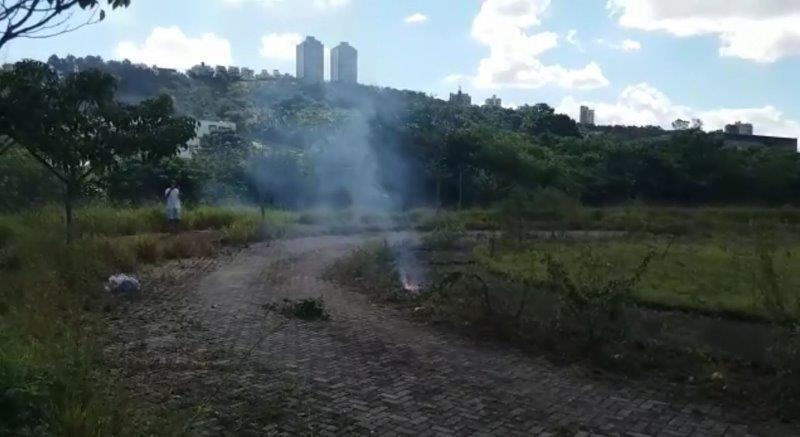smoke: (313, 132, 394, 212)
